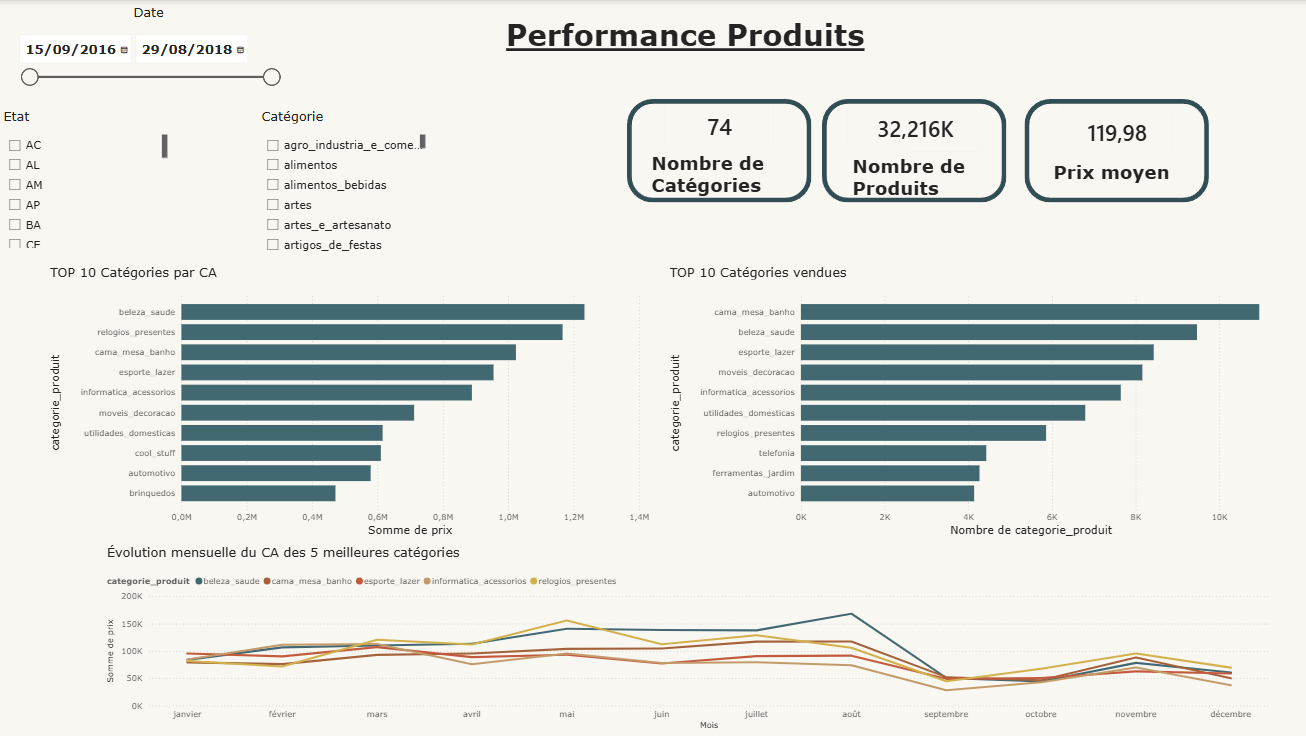

Layout of this report page (visuals, bound fields, positions):
{"tool":"powerbi","page":{"name":"Produits & Géographie","canvas":[1920,1080],"ordinal":2},"visuals":[{"type":"cardVisual","fields":{"Data":["Count(vw_sales_1228.categorie_produit)"]},"box":[960,126.8,194.6,111.5],"z":0},{"type":"slicer","title":"Date","fields":{"Values":["vw_sales_1228.date_commande"]},"box":[24.3,6.1,402.4,129],"z":1000},{"type":"cardVisual","fields":{"Data":["Count(vw_sales_1228.produit)"]},"box":[1226.8,131.2,231.8,107.2],"z":2000},{"type":"slicer","title":"Etat","fields":{"Values":["vw_sales_1228.etat"]},"box":[8.1,157,249.3,207.7],"z":3000},{"type":"cardVisual","fields":{"Data":["Avg(vw_sales_1228.prix)"]},"box":[1539.5,135.6,194.6,111.5],"z":4000},{"type":"slicer","title":"Catégorie","fields":{"Values":["vw_sales_1228.categorie_produit"]},"box":[384.2,157,249.3,214.3],"z":5000},{"type":"barChart","title":"TOP 10 Catégories par CA","fields":{"Category":["vw_sales_1228.categorie_produit"],"Y":["Sum(vw_sales_1228.prix)"]},"box":[76.5,384.9,883.5,402.4],"z":6000},{"type":"barChart","title":"TOP 10 Catégories vendues","fields":{"Category":["vw_sales_1228.categorie_produit"],"Y":["CountNonNull(vw_sales_1228.categorie_produit)"]},"box":[979.7,384.9,884.4,402.5],"z":7000},{"type":"lineChart","title":"Évolution mensuelle du CA des 5 meilleures catégories","fields":{"Category":["vw_sales_1228.date_commande.Variation.Hiérarchie de dates.Mois"],"Series":["vw_sales_1228.categorie_produit"],"Y":["Sum(vw_sales_1228.prix)"]},"box":[159.6,793.8,1703.5,275.5],"z":8000},{"type":"textbox","box":[953.4,216.5,209.9,105],"z":9000},{"type":"textbox","box":[1246.5,220.9,194.6,87.5],"z":10000},{"type":"textbox","box":[1539.5,229.6,214.3,61.2],"z":11000},{"type":"textbox","box":[741.3,19.7,542.3,100.6],"z":12000},{"type":"shape","box":[1502.3,144.3,269,150.9],"z":12001},{"type":"shape","box":[1207.1,144.3,269,150.9],"z":12002},{"type":"shape","box":[922.8,144.3,269,150.9],"z":12003}]}

Visuals, with their boxes in screenshot pixels (x1, y1, x2, y2), scaled from the page's 1920x1080 canvas onto the 1306x736 screenshot:
cardVisual - Count(vw_sales_1228.categorie_produit): [left=653, top=86, right=785, bottom=162]
"Date" slicer: [left=17, top=4, right=290, bottom=92]
cardVisual - Count(vw_sales_1228.produit): [left=834, top=89, right=992, bottom=162]
"Etat" slicer: [left=6, top=107, right=175, bottom=249]
cardVisual - Avg(vw_sales_1228.prix): [left=1047, top=92, right=1180, bottom=168]
"Catégorie" slicer: [left=261, top=107, right=431, bottom=253]
"TOP 10 Catégories par CA" barChart: [left=52, top=262, right=653, bottom=537]
"TOP 10 Catégories vendues" barChart: [left=666, top=262, right=1268, bottom=537]
"Évolution mensuelle du CA des 5 meilleures catégories" lineChart: [left=109, top=541, right=1267, bottom=729]
textbox: [left=649, top=148, right=791, bottom=219]
textbox: [left=848, top=151, right=980, bottom=210]
textbox: [left=1047, top=156, right=1193, bottom=198]
textbox: [left=504, top=13, right=873, bottom=82]
shape: [left=1022, top=98, right=1205, bottom=201]
shape: [left=821, top=98, right=1004, bottom=201]
shape: [left=628, top=98, right=811, bottom=201]
